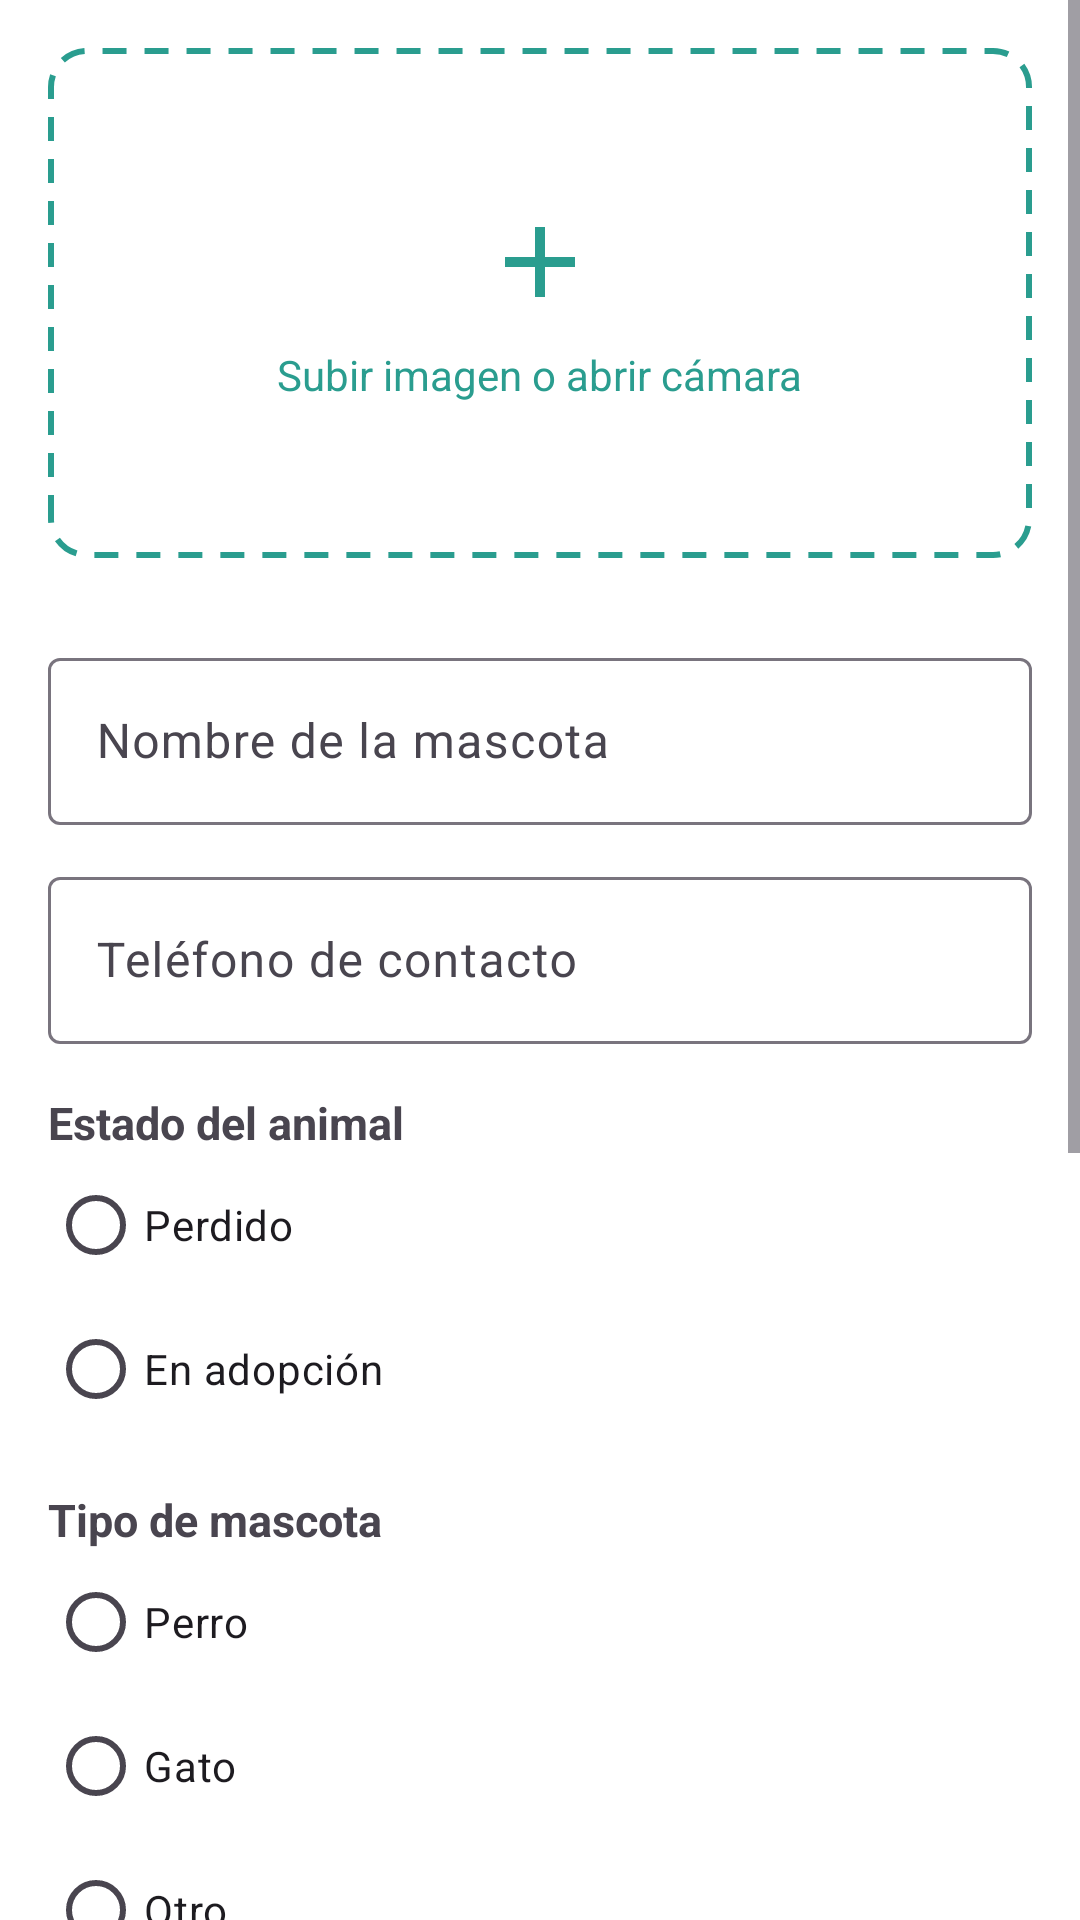

Icon click points for this 1080×1920 phone screenshot, format (x=x, y=y):
add: (x=540, y=262)
